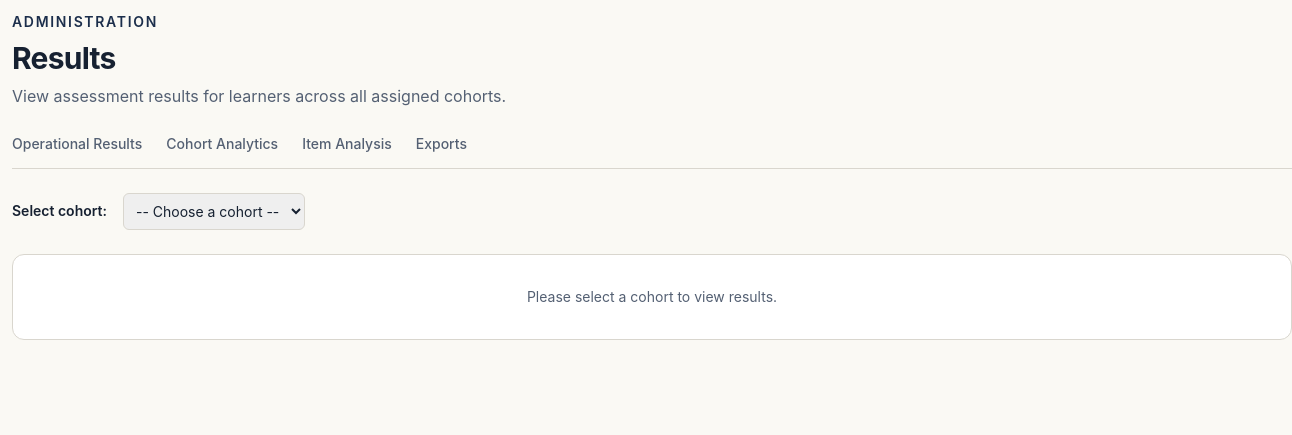
AdminResultsPage › renders a list of cohorts in the dropdown and displays results
This screenshot has width=1292, height=435.
Select "Cohort 1 (C1)" in the dropdown labelled "Select cohort:": (214, 211) [123,193,305,230]
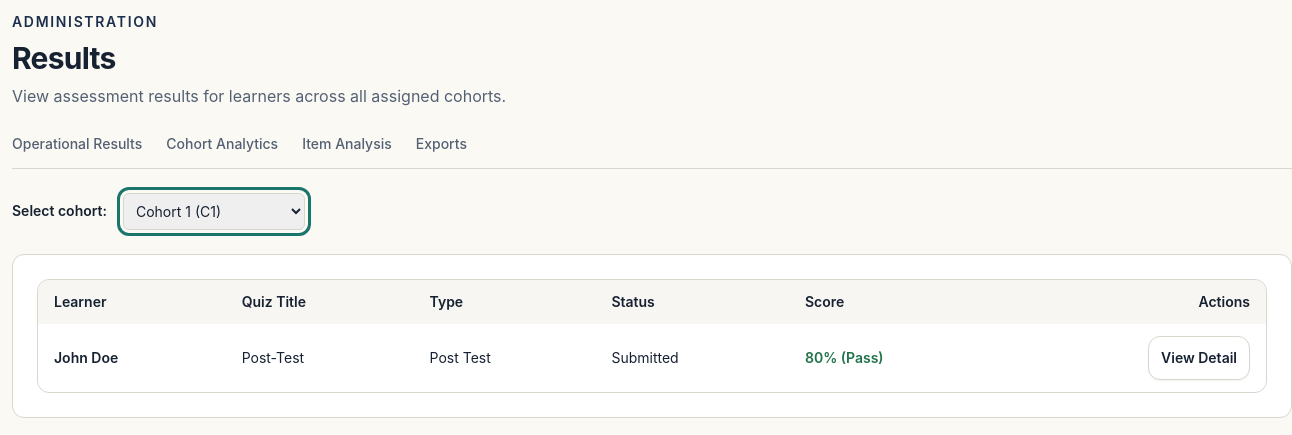
expect the column heading "John Doe" is shown: met, box [38,324,226,392]
expect the text "Post-Test" is shown: met, box [226,324,414,392]
expect the text "80% (Pass)" is shown: met, box [805,349,884,366]
